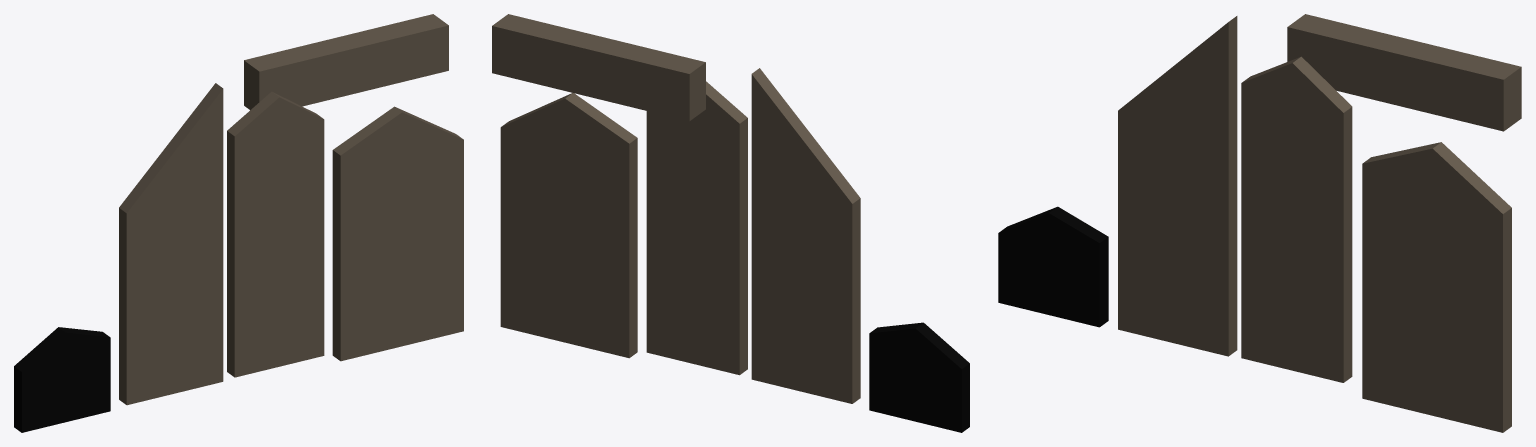
File: bretter_dreieck_1x1_kaputt.glb
The picture shows the model from 3 angles, left to right: view 1: azimuth 30°, elevation 25°; view 2: azimuth 150°, elevation 25°; view 3: azimuth 330°, elevation 25°; orthographic projection. The views are drawn at different scales.
Parts seen in each view (by area): view 1: bretter_dreieck_1x1_kaputt; view 2: bretter_dreieck_1x1_kaputt; view 3: bretter_dreieck_1x1_kaputt.
Part boxes in pixels (left/top/right/bottom): bretter_dreieck_1x1_kaputt: left=14, top=14, right=463, bottom=432; bretter_dreieck_1x1_kaputt: left=492, top=14, right=969, bottom=432; bretter_dreieck_1x1_kaputt: left=998, top=14, right=1521, bottom=432.
Size of the model in its own units: 0.8166 by 0.5328 by 0.075.
